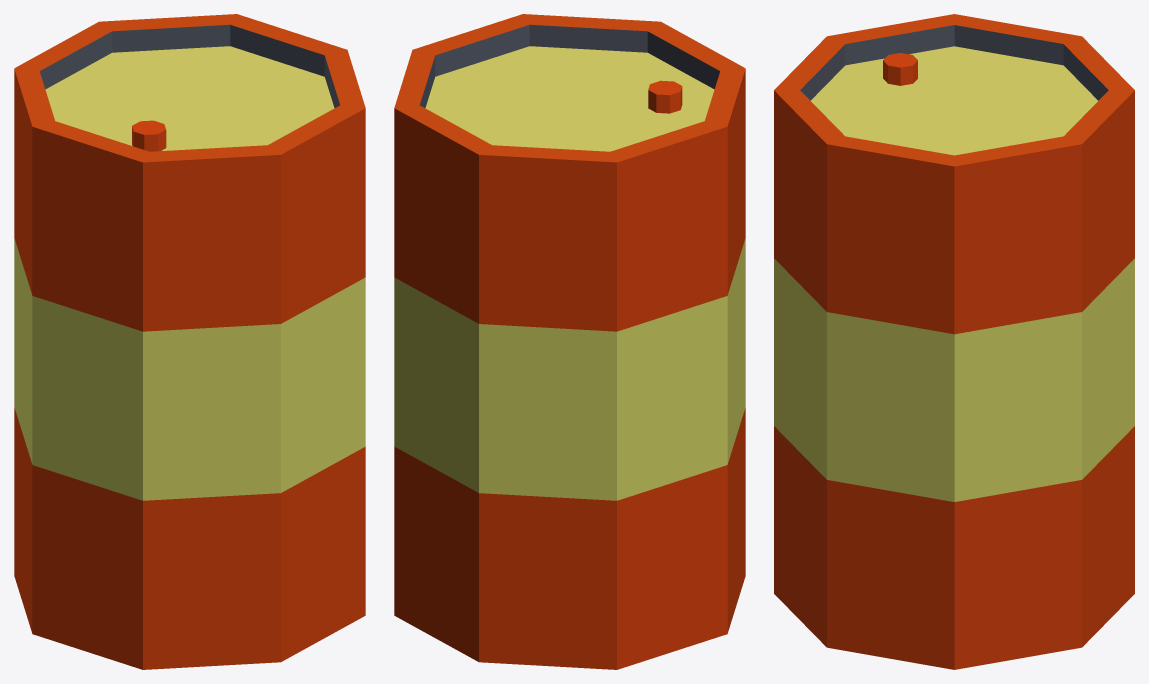
File: barrel.fbx
The picture shows the model from 3 angles, left to right: view 1: azimuth 30°, elevation 25°; view 2: azimuth 150°, elevation 25°; view 3: azimuth 270°, elevation 25°; orthographic projection.
Visible parts, largest first — view 1: Cylinder.001; view 2: Cylinder.001; view 3: Cylinder.001.
Boxes of the visible parts, <box> form: Cylinder.001: <box>14,14,365,669</box>; Cylinder.001: <box>394,14,745,669</box>; Cylinder.001: <box>774,14,1134,669</box>.
Size of the model in its own units: 297 by 457 by 297.
